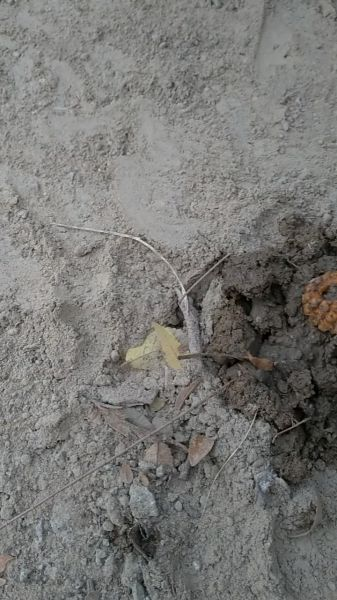eggs: (296, 267, 337, 338)
